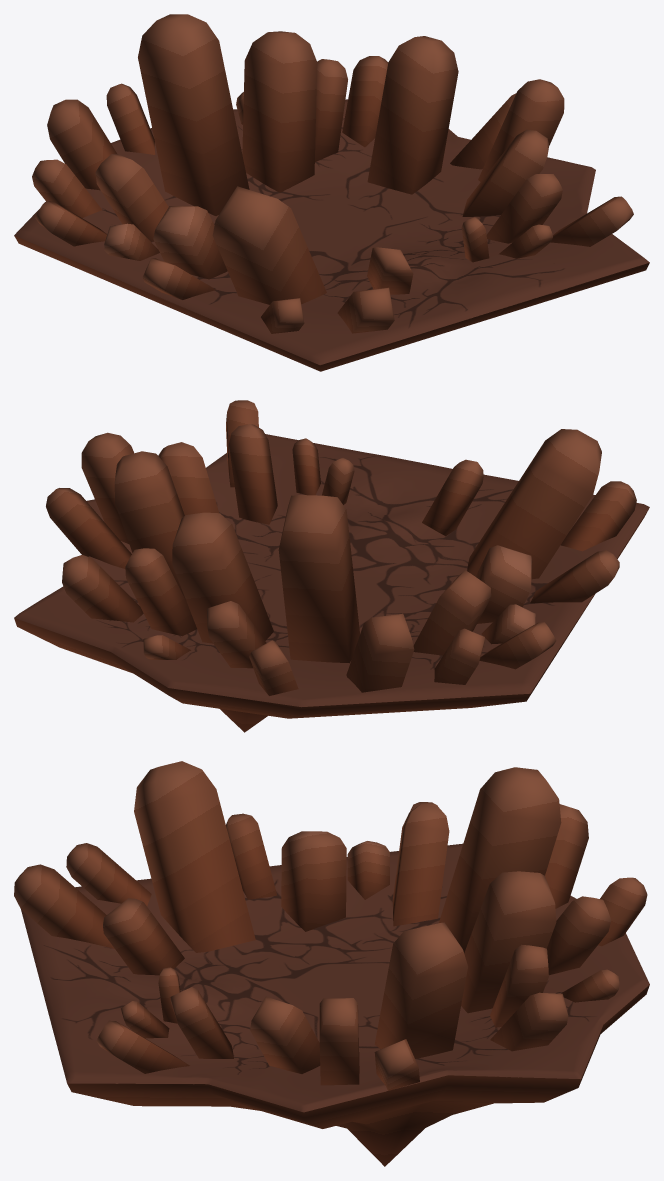
Rendered from Ship Island.fbx.
The picture shows the model from 3 angles, top to bottom: view 1: azimuth 30°, elevation 25°; view 2: azimuth 150°, elevation 25°; view 3: azimuth 270°, elevation 25°; orthographic projection. The views are drawn at different scales.
Parts seen in each view (by area): view 1: Cube.003, Cube.006, Cube.009, Cube.010, Cube.016, Island 13.001, Cube.007, Cube.013, Cube.014, Cube.015, Cube.008, Cube.012 (+14 smaller); view 2: Cube.003, Cube.006, Cube.016, Cube.009, Island 13.001, Cube.010, Cube.014, Cube.011, Cube.012, Cube.015, Cube.023, Cube.021 (+15 smaller); view 3: Cube.003, Cube.016, Island 13.001, Cube.006, Cube.010, Cube.009, Cube.007, Cube.015, Cube.029, Cube.004, Cube.013, Cube.008 (+14 smaller).
Part boxes in pixels (bbox=[...]): Cube.003: bbox=[14, 99, 649, 365]; Cube.006: bbox=[138, 14, 249, 215]; Cube.009: bbox=[242, 31, 317, 192]; Cube.010: bbox=[367, 36, 458, 194]; Cube.016: bbox=[212, 186, 326, 304]; Island 13.001: bbox=[14, 235, 649, 371]; Cube.007: bbox=[153, 206, 227, 279]; Cube.013: bbox=[462, 129, 549, 216]; Cube.014: bbox=[47, 99, 116, 190]; Cube.015: bbox=[95, 153, 168, 241]; Cube.008: bbox=[478, 79, 564, 181]; Cube.012: bbox=[486, 174, 562, 243]; Cube.003: bbox=[14, 434, 649, 707]; Cube.006: bbox=[278, 495, 359, 663]; Cube.016: bbox=[467, 429, 601, 579]; Cube.009: bbox=[172, 512, 273, 643]; Island 13.001: bbox=[14, 509, 648, 732]; Cube.010: bbox=[114, 451, 186, 600]; Cube.014: bbox=[346, 613, 414, 692]; Cube.011: bbox=[125, 548, 196, 636]; Cube.012: bbox=[229, 424, 277, 524]; Cube.015: bbox=[413, 570, 491, 655]; Cube.023: bbox=[46, 488, 131, 568]; Cube.021: bbox=[62, 555, 143, 622]; Cube.003: bbox=[21, 843, 649, 1112]; Cube.016: bbox=[134, 761, 255, 952]; Island 13.001: bbox=[67, 985, 649, 1166]; Cube.006: bbox=[439, 767, 561, 952]; Cube.010: bbox=[374, 922, 467, 1080]; Cube.009: bbox=[461, 871, 556, 1013]; Cube.007: bbox=[281, 831, 346, 931]; Cube.015: bbox=[392, 804, 449, 926]; Cube.029: bbox=[14, 864, 114, 948]; Cube.004: bbox=[103, 898, 184, 975]; Cube.013: bbox=[250, 996, 320, 1073]; Cube.008: bbox=[319, 998, 359, 1085].
Bounding box in the file's own units: 10513 × 6005 × 10539.
